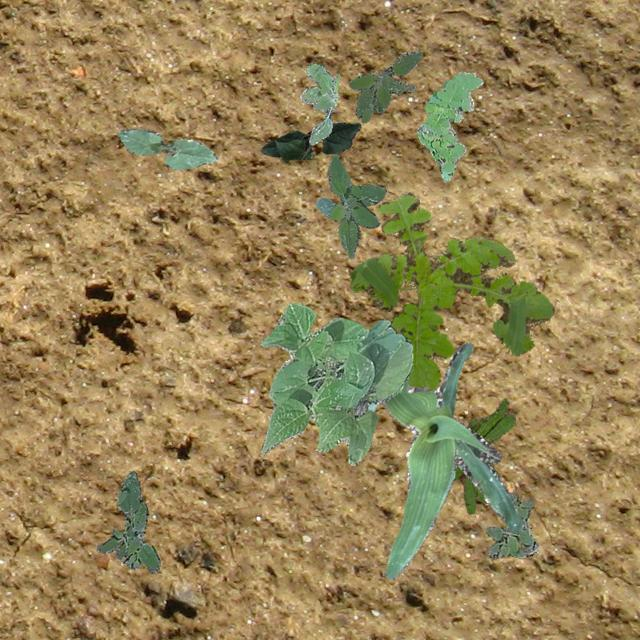crop: (354, 342, 522, 578), (259, 302, 412, 464), (116, 128, 216, 170), (259, 122, 359, 160)
weed: (350, 190, 554, 390), (314, 154, 384, 258), (416, 70, 482, 180), (452, 398, 514, 512), (96, 470, 160, 572), (347, 50, 421, 122), (484, 492, 538, 558), (298, 62, 338, 144)
